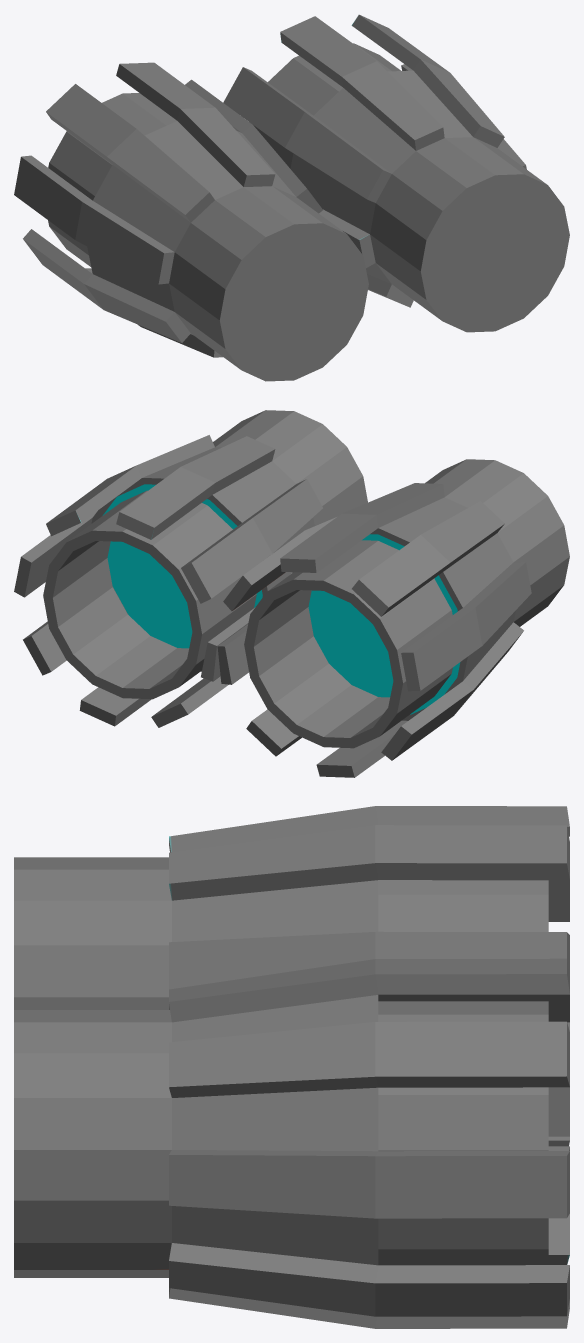
Rendered from 4_Thruster.fbx.
The picture shows the model from 3 angles, top to bottom: view 1: azimuth 30°, elevation 25°; view 2: azimuth 150°, elevation 25°; view 3: azimuth 270°, elevation 25°; orthographic projection. The views are drawn at different scales.
Visible parts, largest first — view 1: 4_Thruster; view 2: 4_Thruster; view 3: 4_Thruster.
Part boxes in pixels (x1,y1,x2,y2): 4_Thruster: (14,14,569,381); 4_Thruster: (14,410,569,777); 4_Thruster: (14,806,569,1328).
Size of the model in its own units: 0.7428 by 0.3762 by 0.5643.
Materials: 1 (1 with a texture image).
